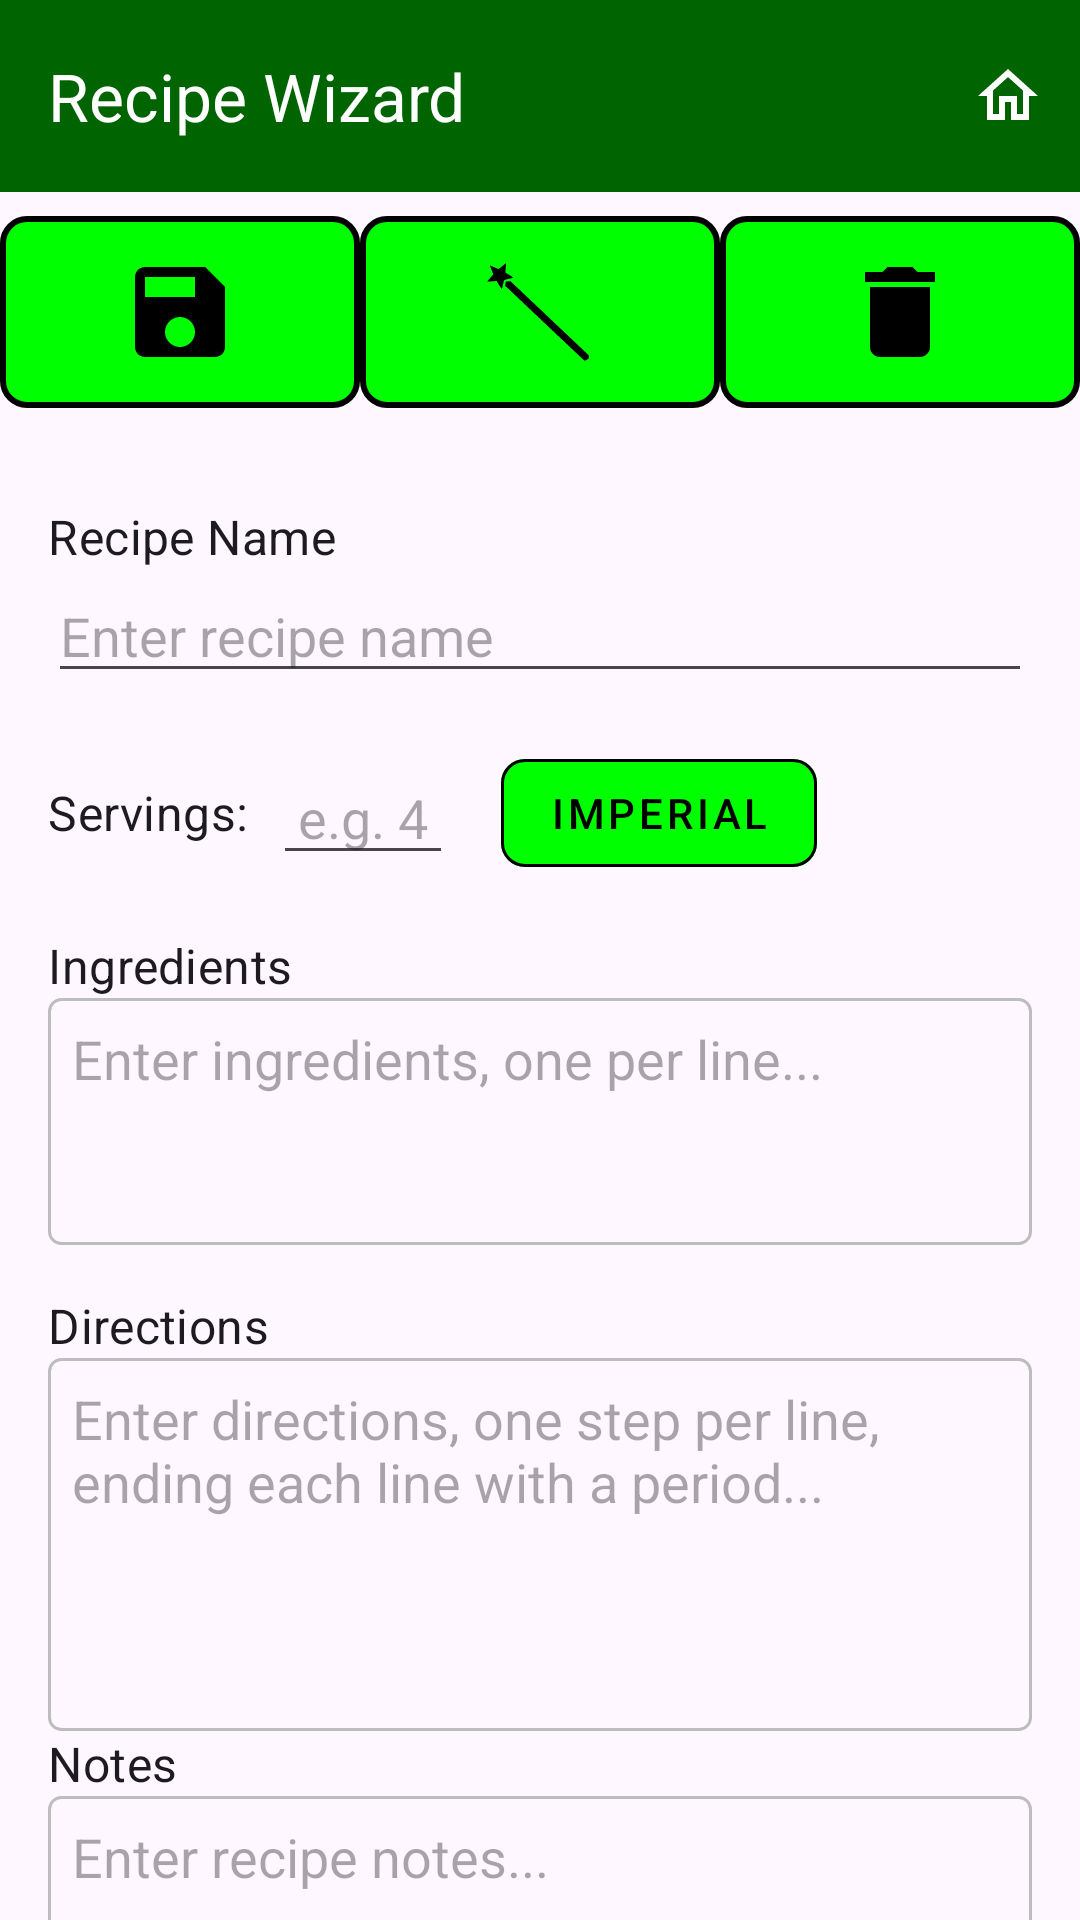

Named icons in this screenshot (1080 x 1920) and their bounding boxes, [x1,y1,x2,y2]:
Delete Recipe: [720,216,1080,408]
Save Recipe: [0,216,360,408]
